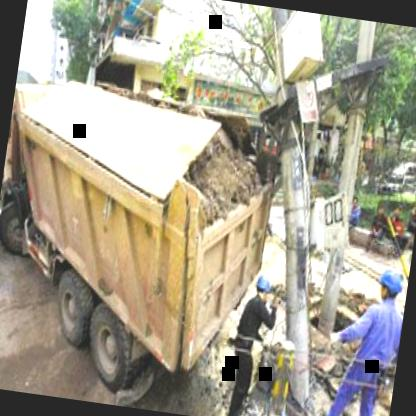helmet: (372, 264, 404, 308), (252, 269, 276, 307)
